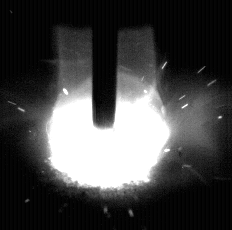arame: (93, 0, 117, 129)
poca: (47, 0, 170, 230)
